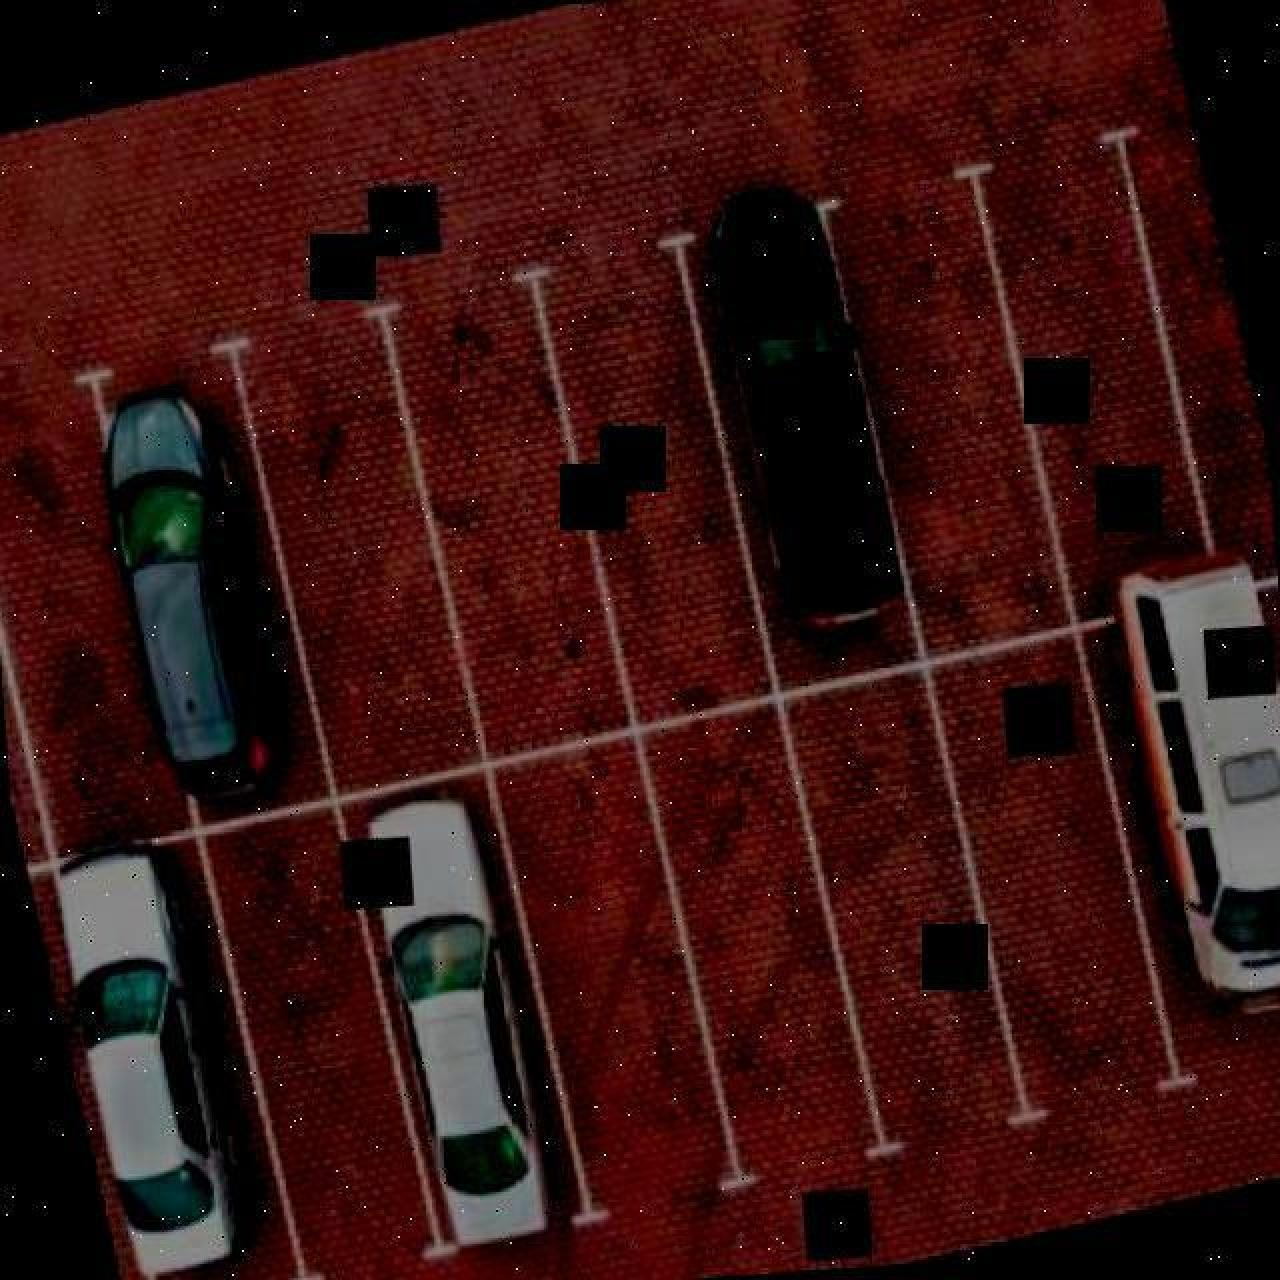occupied: (323, 760, 602, 1262), (664, 200, 937, 706), (80, 336, 351, 840), (45, 824, 309, 1280), (1060, 564, 1280, 1097)
vacant: (220, 298, 495, 815), (815, 163, 1088, 678), (964, 123, 1235, 640), (915, 623, 1188, 1124), (478, 722, 749, 1226), (378, 269, 646, 778), (520, 235, 789, 742), (773, 658, 1040, 1157), (631, 690, 891, 1191), (190, 793, 449, 1280)
